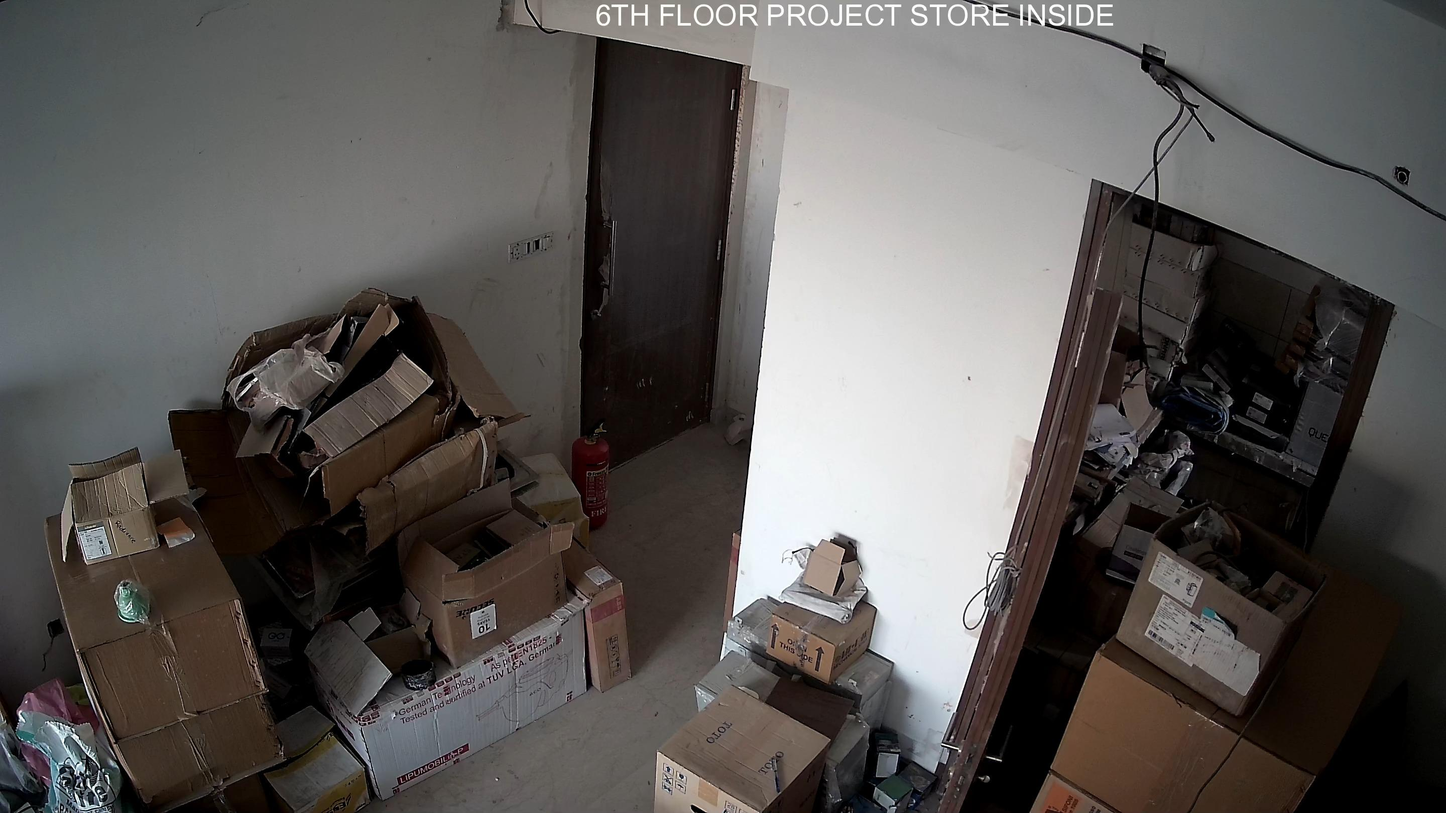Door-Close: (572, 31, 761, 462), (565, 30, 746, 473)
